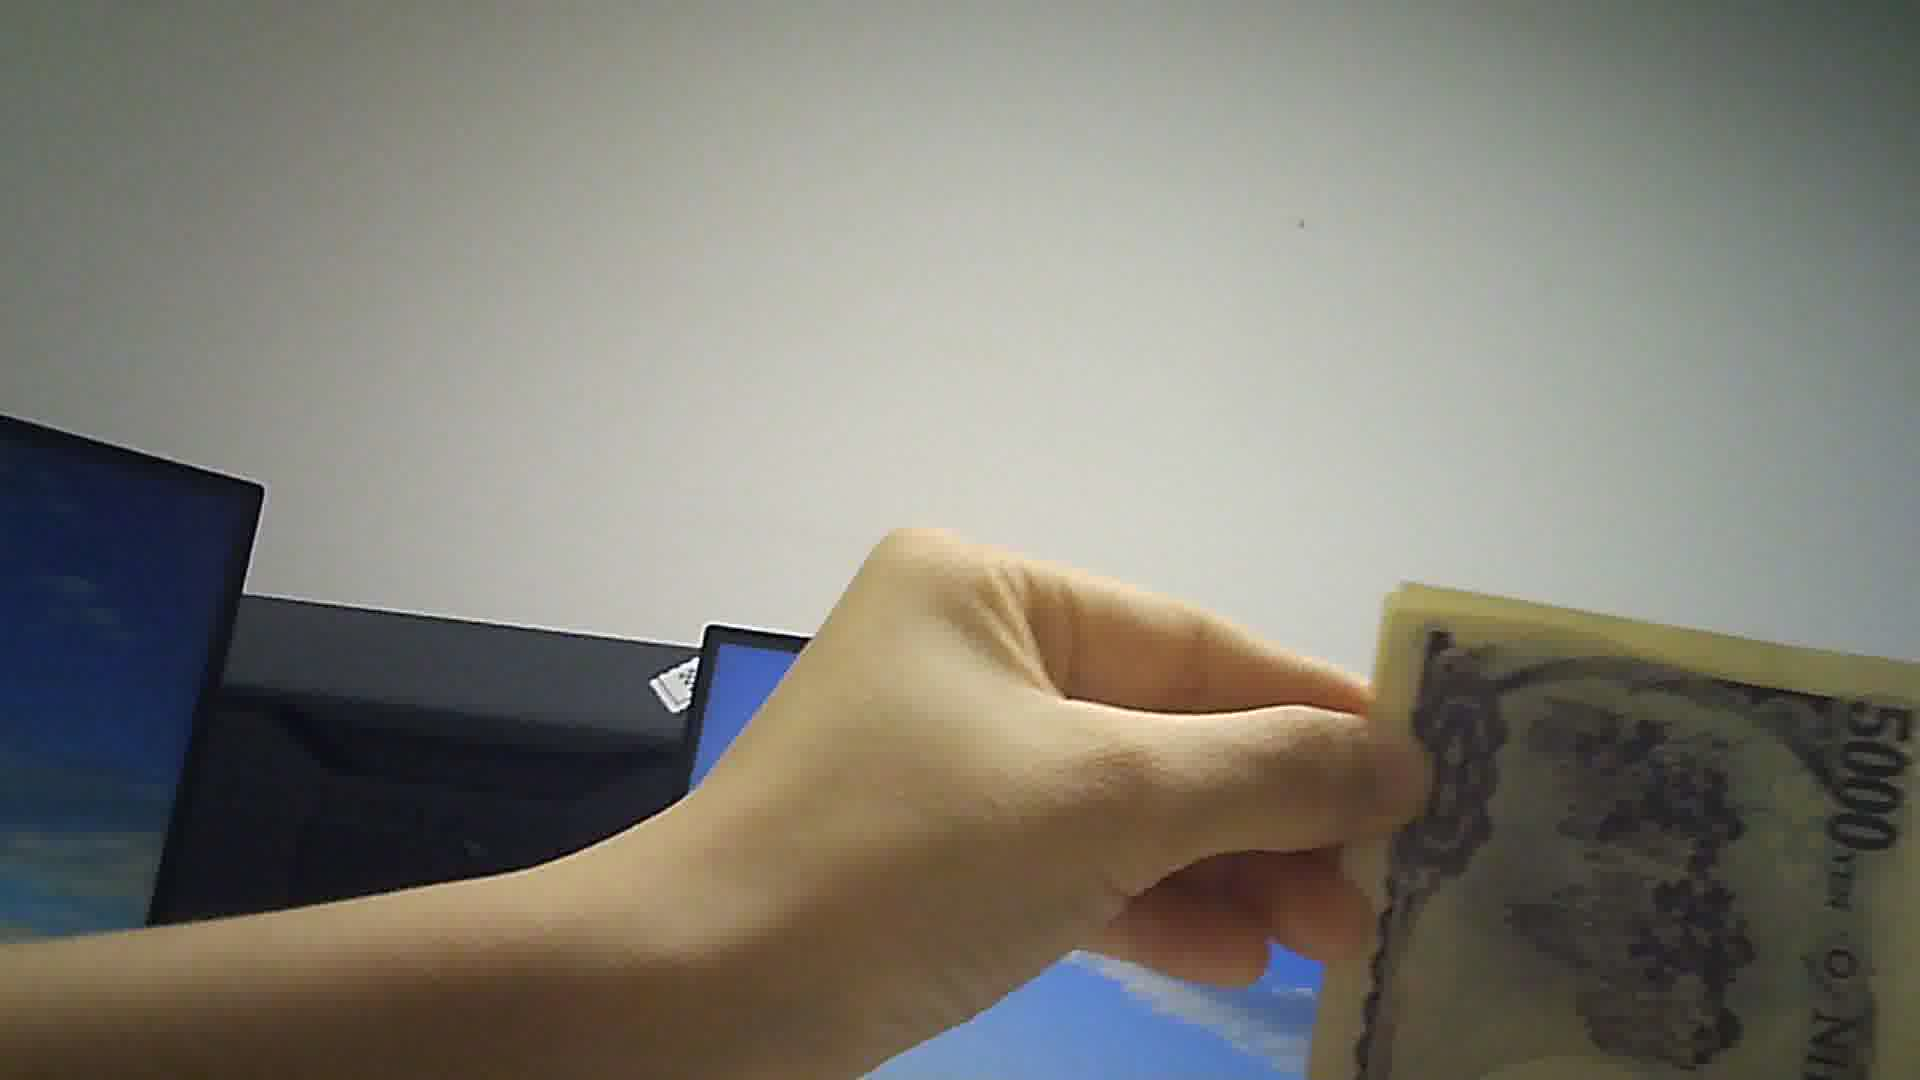5,000 Yen: (1329, 579, 1919, 1068)
